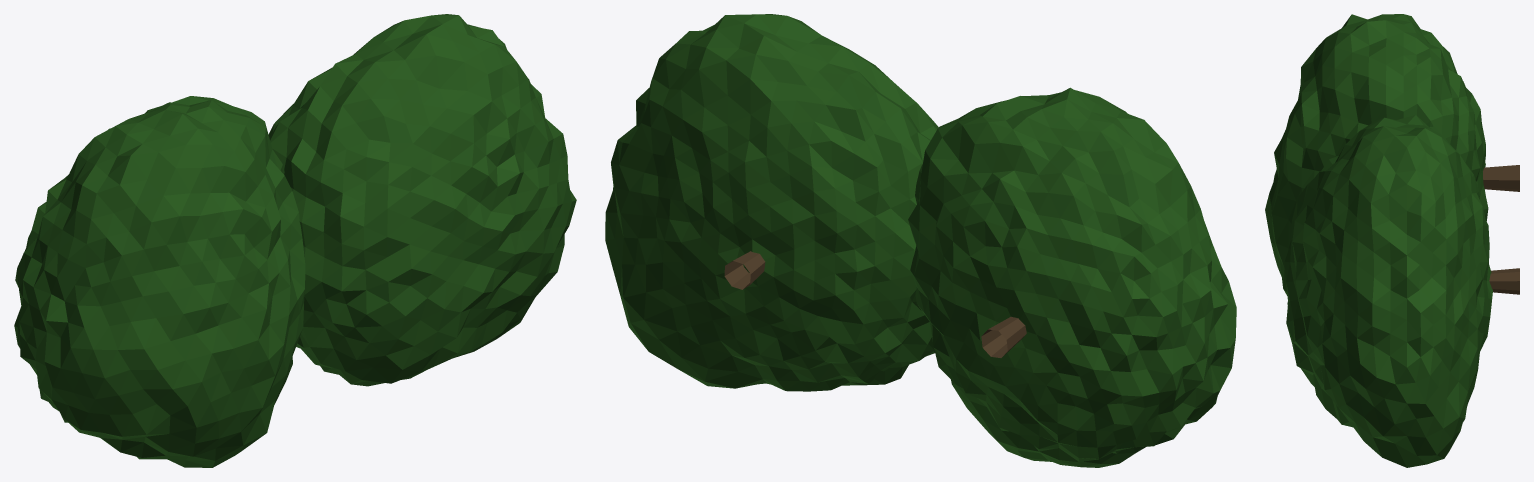
Rendered from citrus_run2_e.obj.
3 views of the same model, side by side, from view 1: azimuth 30°, elevation 25°; view 2: azimuth 150°, elevation 25°; view 3: azimuth 270°, elevation 25° (orthographic). The views are drawn at different scales.
Parts seen in each view (by area): view 1: canopy; view 2: canopy, trunk; view 3: canopy, trunk.
Boxes of the visible parts, x1,y1,x2,y2 form: canopy: [14, 14, 576, 467]; canopy: [605, 14, 1236, 467]; trunk: [724, 251, 1026, 357]; canopy: [1265, 14, 1492, 467]; trunk: [1483, 165, 1519, 294].
Bounding box in the file's own units: 6.88 × 4.34 × 2.99.
